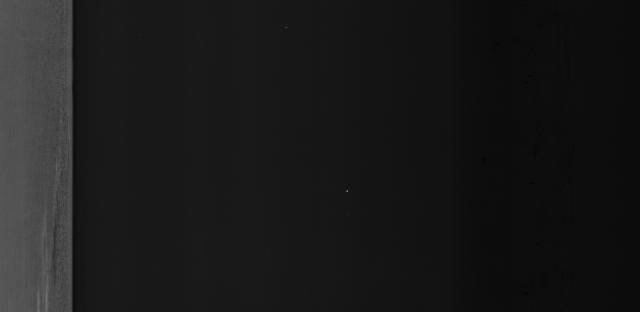silk_spot: (19, 114, 63, 306)
